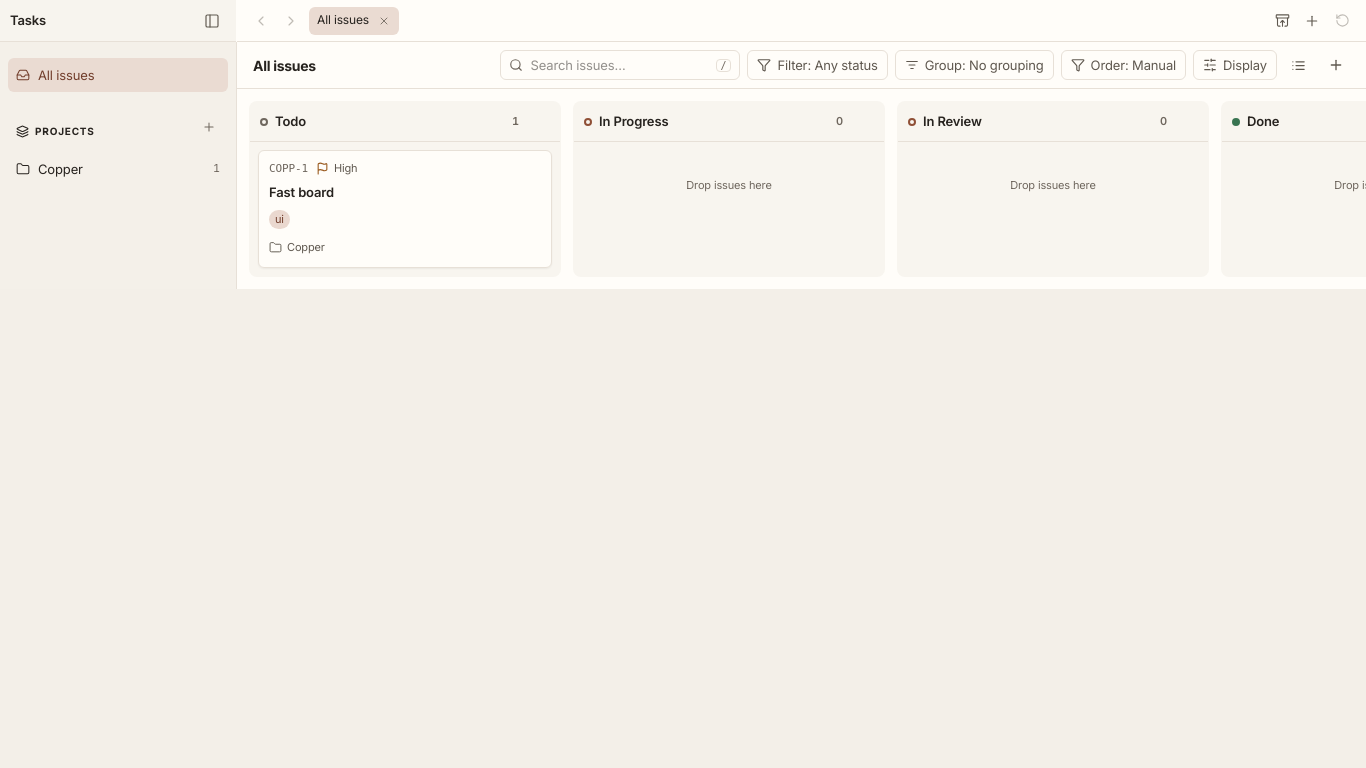
Test: keeps the archive dialog open and shows restore collisions
Click the button named "Archived items" at (1282, 20), box x1=1268 y1=6 x2=1296 y2=34
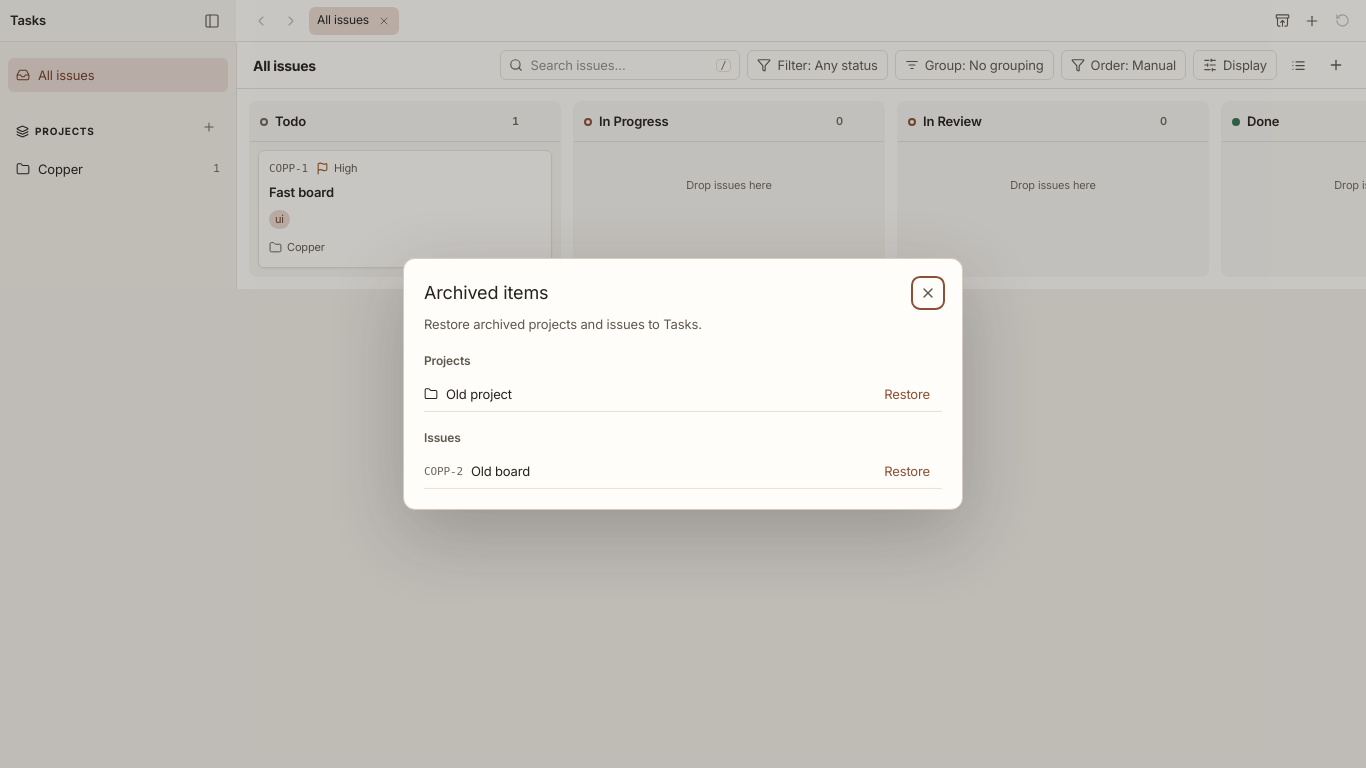
Click the button with aria-label "Restore Old project" at (907, 394), box x1=872 y1=377 x2=942 y2=411
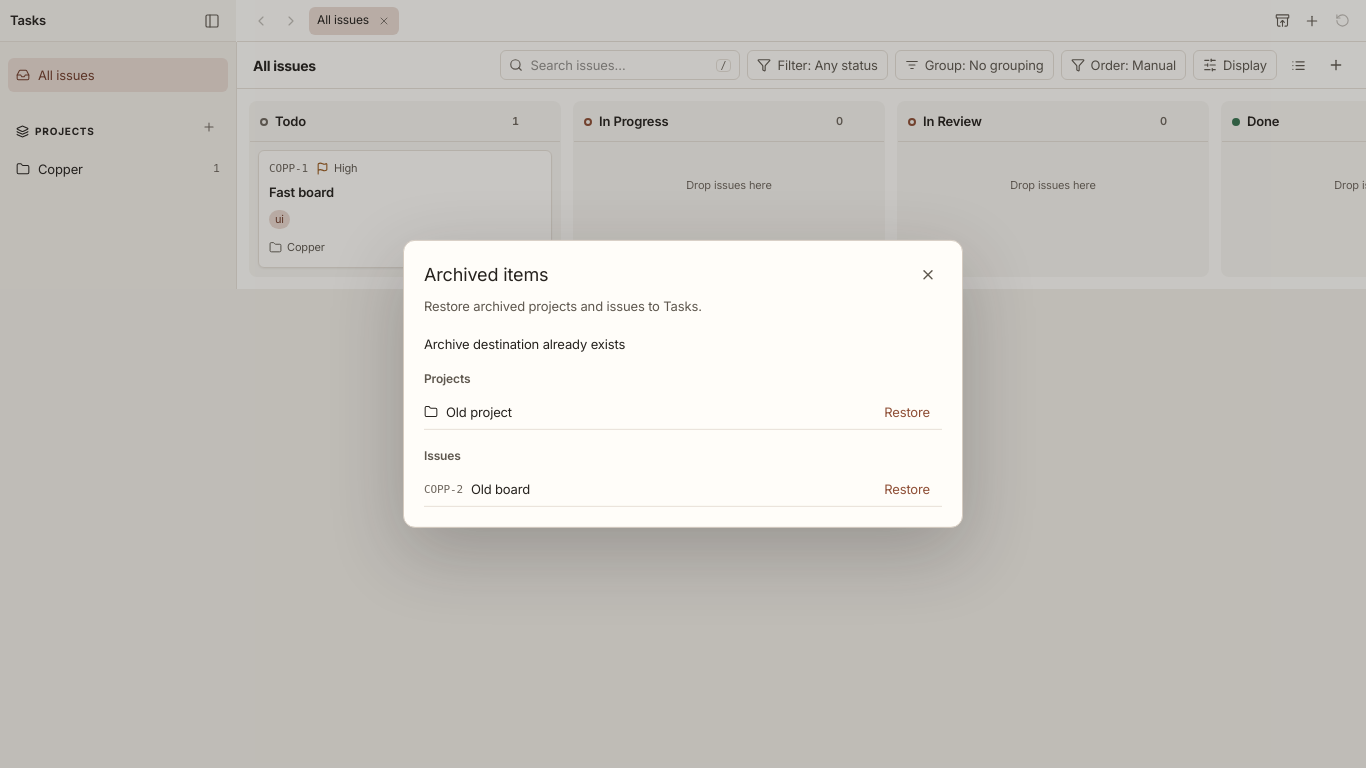
Expected: the dialog "Archived items" is shown, x1=403 y1=240 x2=963 y2=528
Expected: the message reads "Archive destination already exists", x1=424 y1=336 x2=625 y2=352
